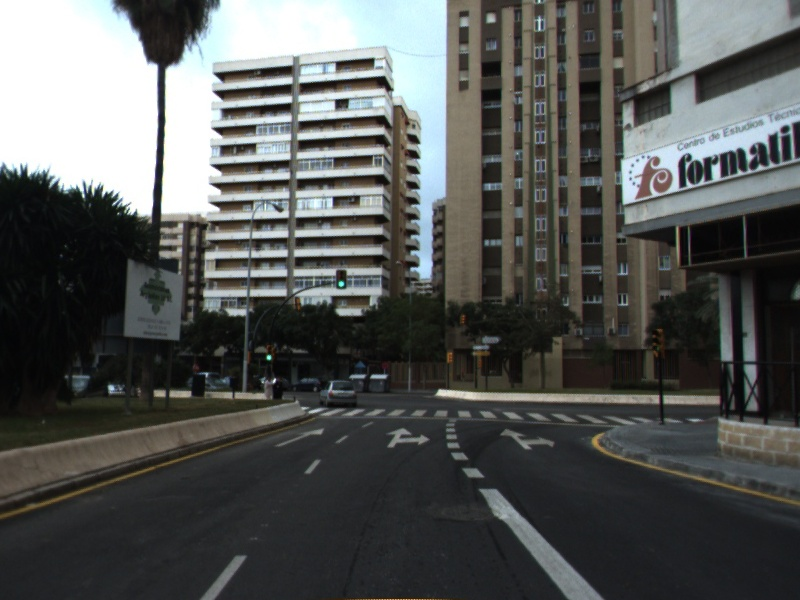STRAIGHT: (272, 425, 327, 449)
STRAIGHT_RIGHT: (498, 426, 557, 452), (384, 426, 432, 450)
